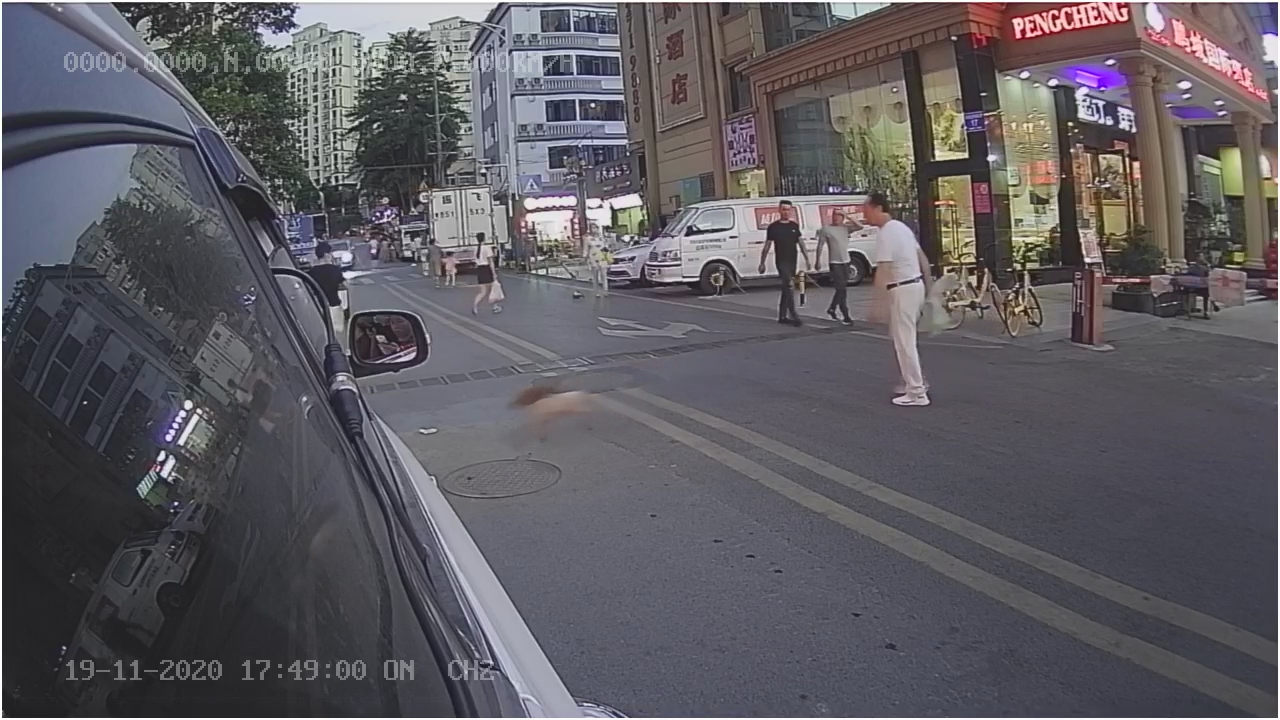person: (859, 195, 944, 408)
